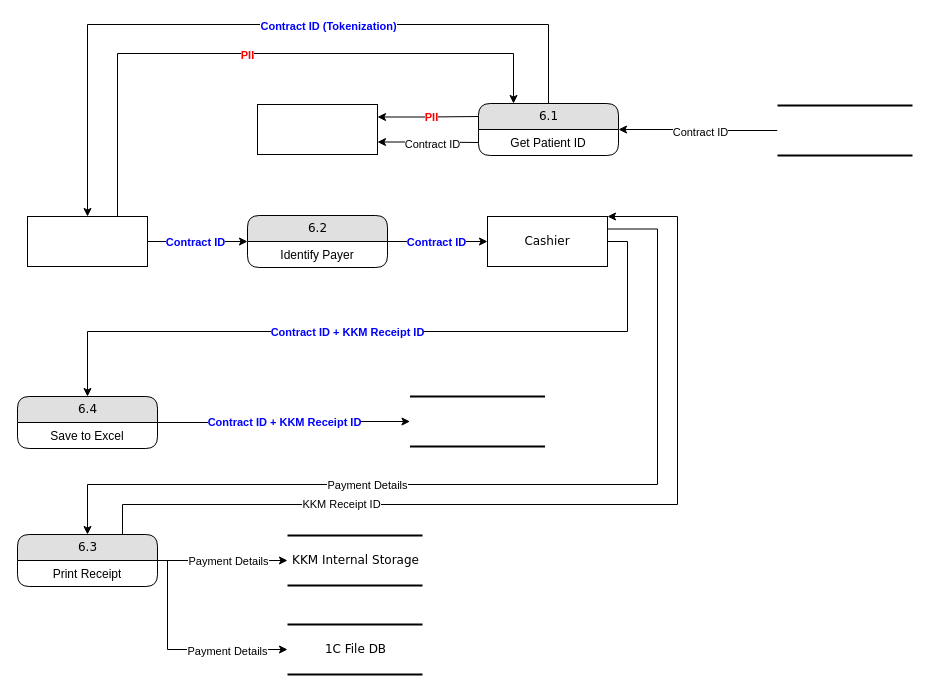
This 931x693 diagram has some shape labels left out. Here are the shapes that lost their labels. From the top down, the box of each, then its label:
(256, 104, 378, 154): Administrator
(776, 104, 913, 156): Patients Excel file
(26, 216, 148, 266): Patient
(408, 395, 546, 447): Payments Excel file
